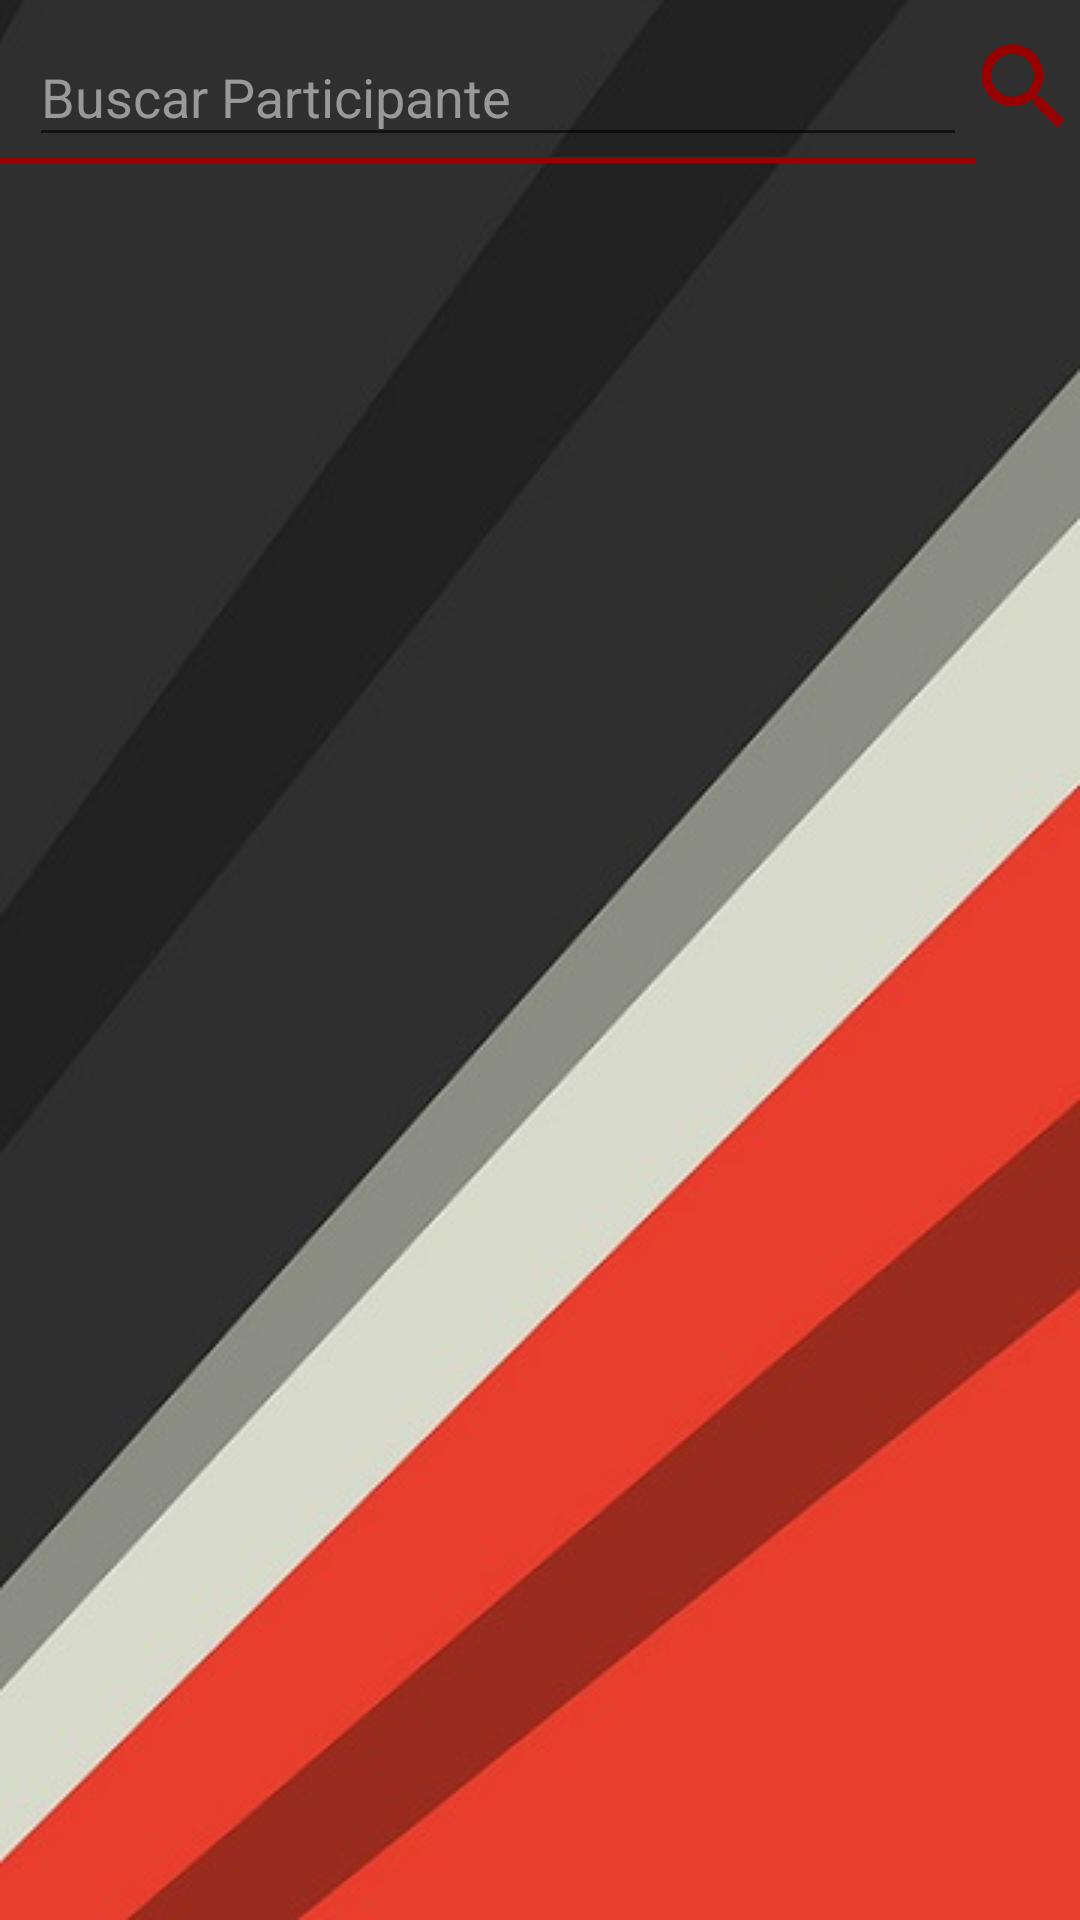

Icon click points for this 1080px×1920px phone screenshot, format (x=x, y=y):
lupa: (x=1022, y=85)
